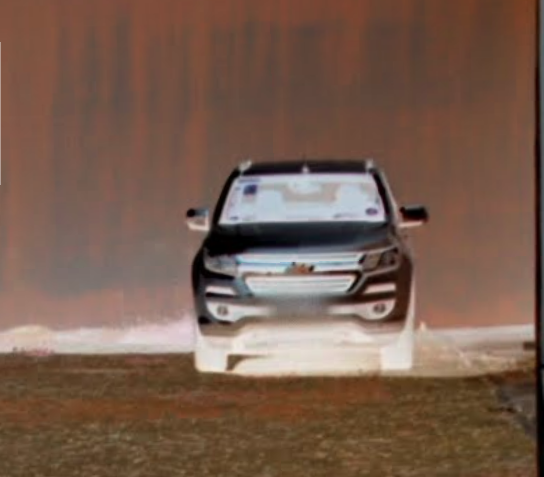car: (170, 153, 452, 385)
